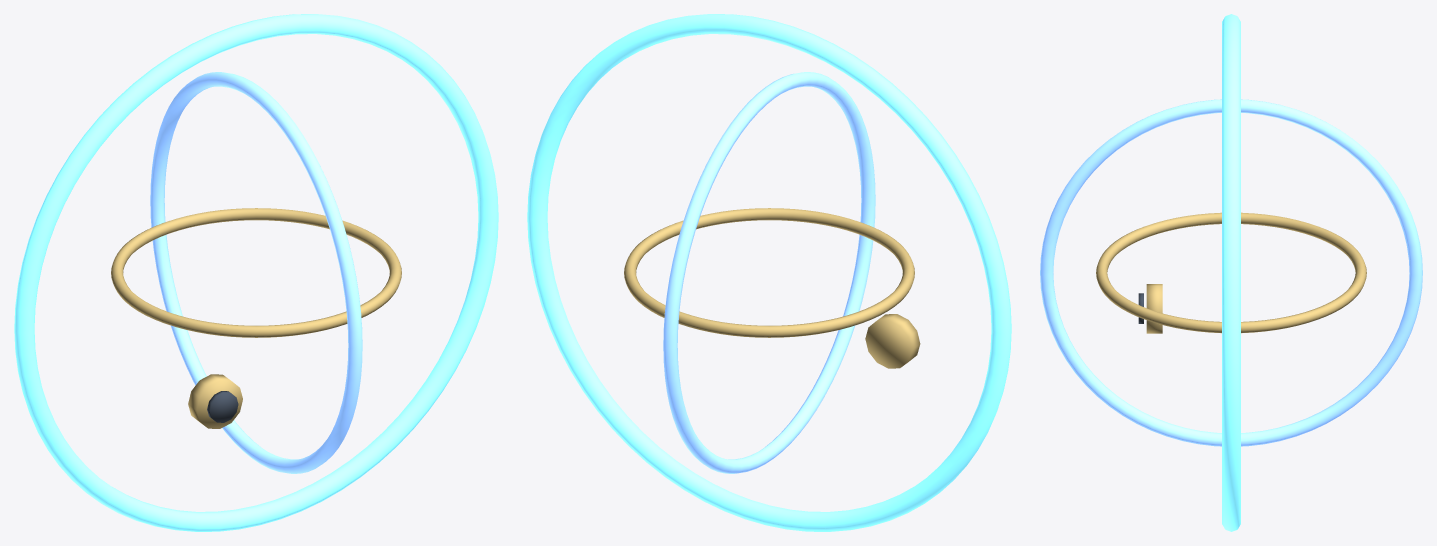
The model's file is 16_L84_SpacecraftBodyAxesHologram.glb.
3 renders of one model, left to right at view 1: azimuth 30°, elevation 25°; view 2: azimuth 150°, elevation 25°; view 3: azimuth 270°, elevation 25°, orthographic. The views are drawn at different scales.
Parts seen in each view (by area): view 1: L84_SpacecraftBodyAxesHologra_Part_0000, L84_SpacecraftBodyAxesHologra_Part_0001, L84_SpacecraftBodyAxesHologra_Part_0002, L84_SpacecraftBodyAxesHologra_Part_0003, L84_SpacecraftBodyAxesHologra_Part_0004; view 2: L84_SpacecraftBodyAxesHologra_Part_0000, L84_SpacecraftBodyAxesHologra_Part_0001, L84_SpacecraftBodyAxesHologra_Part_0002, L84_SpacecraftBodyAxesHologra_Part_0003; view 3: L84_SpacecraftBodyAxesHologra_Part_0001, L84_SpacecraftBodyAxesHologra_Part_0000, L84_SpacecraftBodyAxesHologra_Part_0002, L84_SpacecraftBodyAxesHologra_Part_0003.
Part boxes in pixels (box(x1,y1,x2,y2)): L84_SpacecraftBodyAxesHologra_Part_0000: box(14, 14, 498, 531); L84_SpacecraftBodyAxesHologra_Part_0001: box(150, 72, 362, 473); L84_SpacecraftBodyAxesHologra_Part_0002: box(111, 208, 401, 337); L84_SpacecraftBodyAxesHologra_Part_0003: box(188, 374, 242, 428); L84_SpacecraftBodyAxesHologra_Part_0004: box(207, 391, 238, 422); L84_SpacecraftBodyAxesHologra_Part_0000: box(527, 14, 1011, 531); L84_SpacecraftBodyAxesHologra_Part_0001: box(663, 72, 875, 473); L84_SpacecraftBodyAxesHologra_Part_0002: box(624, 208, 914, 337); L84_SpacecraftBodyAxesHologra_Part_0003: box(865, 314, 920, 368); L84_SpacecraftBodyAxesHologra_Part_0001: box(1040, 99, 1422, 446); L84_SpacecraftBodyAxesHologra_Part_0000: box(1222, 14, 1240, 531); L84_SpacecraftBodyAxesHologra_Part_0002: box(1096, 212, 1366, 333); L84_SpacecraftBodyAxesHologra_Part_0003: box(1146, 284, 1162, 333).
Bounding box in the file's own units: 1.35 × 1.35 × 0.998.
